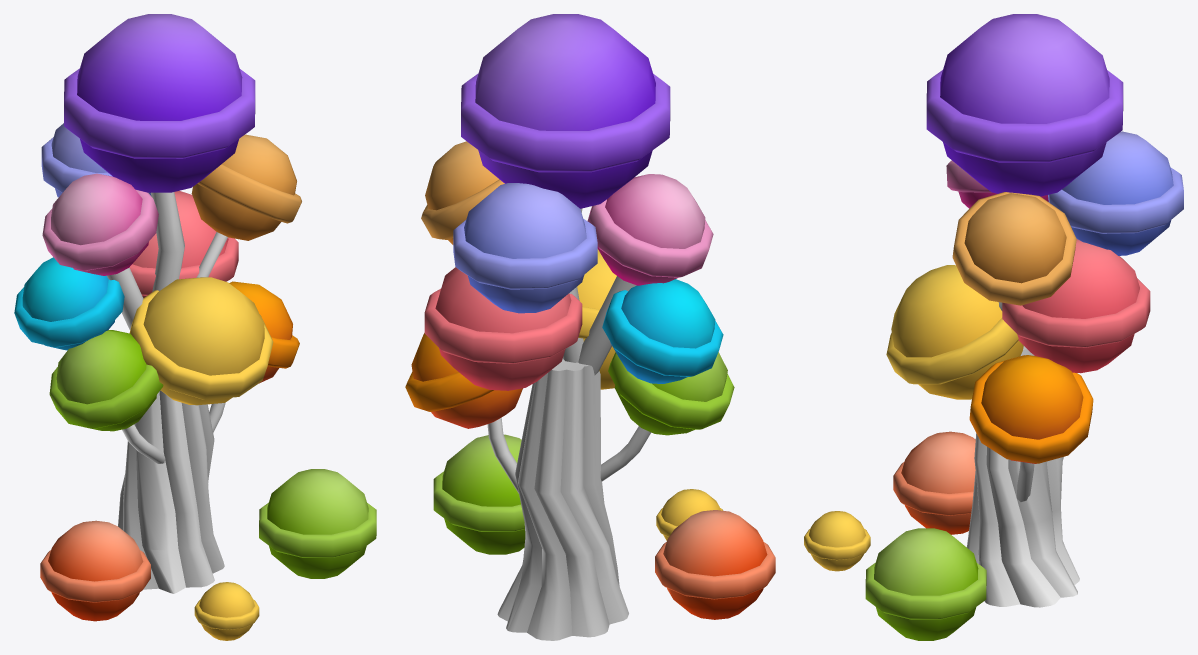
Rendered from Tree_01.fbx.
3 renders of one model, left to right at view 1: azimuth 30°, elevation 25°; view 2: azimuth 150°, elevation 25°; view 3: azimuth 270°, elevation 25°, orthographic. The views are drawn at different scales.
Parts seen in each view (by area): view 1: Tree_01; view 2: Tree_01; view 3: Tree_01.
Part boxes in pixels (bbox=[...]): Tree_01: bbox=[14, 14, 376, 640]; Tree_01: bbox=[405, 14, 775, 640]; Tree_01: bbox=[804, 14, 1183, 640].
Bounding box in the file's own units: 347 × 583 × 359.
